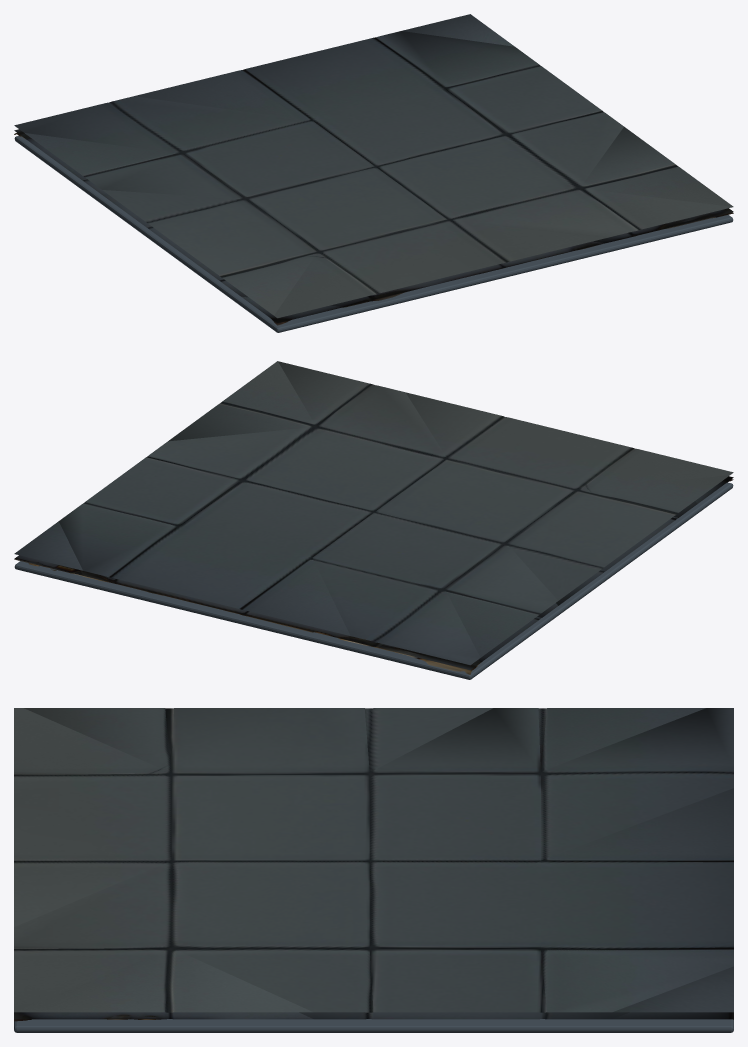
The model's file is floor_stone_tripo_3p9.glb.
The picture shows the model from 3 angles, top to bottom: view 1: azimuth 30°, elevation 25°; view 2: azimuth 150°, elevation 25°; view 3: azimuth 270°, elevation 25°; orthographic projection. The views are drawn at different scales.
Parts seen in each view (by area): view 1: FloorStoneTripo_3p9; view 2: FloorStoneTripo_3p9; view 3: FloorStoneTripo_3p9.
Boxes of the visible parts, <box> form: FloorStoneTripo_3p9: <box>14,14,733,332</box>; FloorStoneTripo_3p9: <box>14,361,733,679</box>; FloorStoneTripo_3p9: <box>14,708,733,1032</box>.
Bounding box in the file's own units: 3.95 × 0.13 × 3.95.
2 materials, 1 textured.
